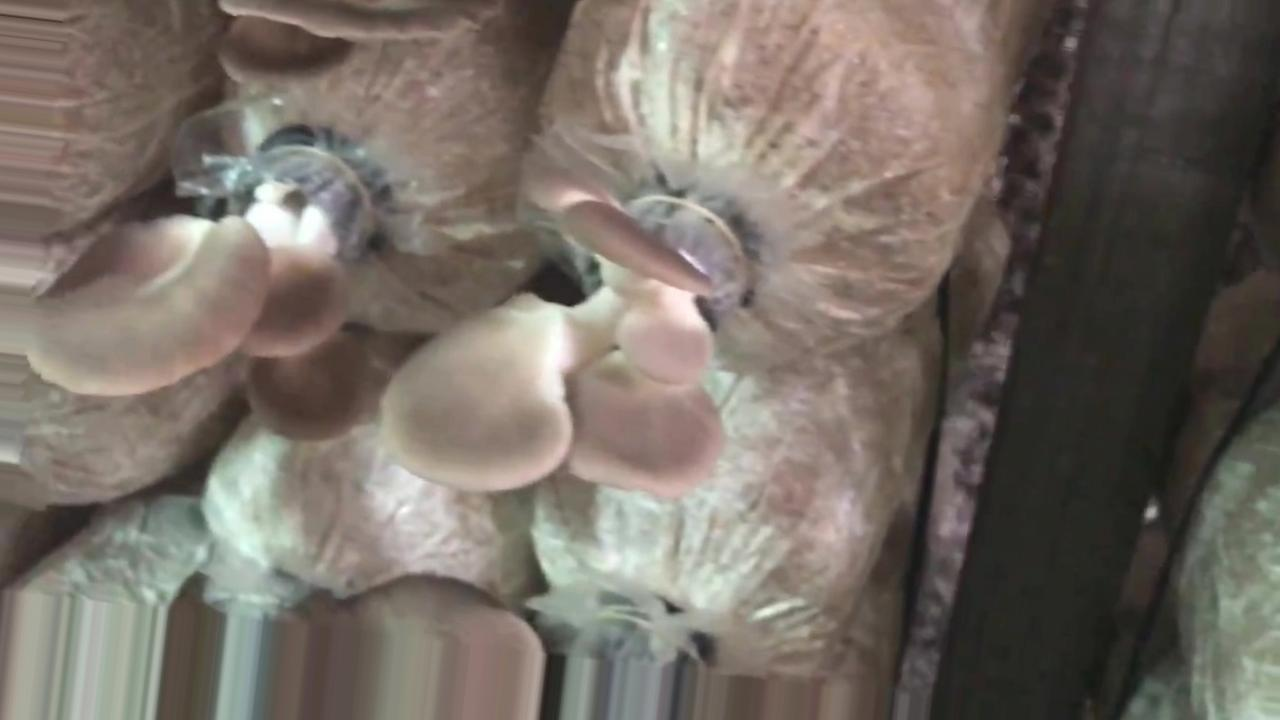nam: (25, 120, 391, 457), (382, 193, 755, 502), (214, 1, 491, 84)
